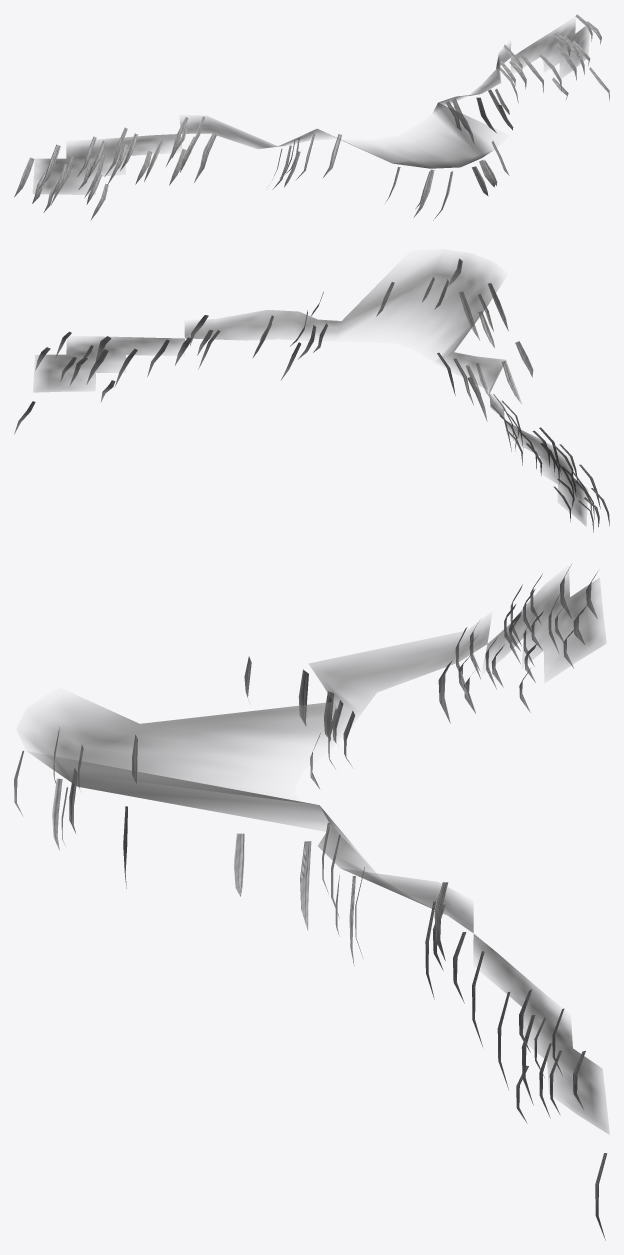
Rendered from unified_m_beard_moustache.glb.
3 views of the same model, one above another, from view 1: azimuth 30°, elevation 25°; view 2: azimuth 150°, elevation 25°; view 3: azimuth 270°, elevation 25° (orthographic). The views are drawn at different scales.
Visible parts, largest first — view 1: Hair_beard_roots, Hair_facial_strands; view 2: Hair_beard_roots, Hair_facial_strands; view 3: Hair_beard_roots, Hair_facial_strands.
Boxes of the visible parts, box(x1,y1,x2,y2) form: Hair_beard_roots: box(33, 21, 588, 194); Hair_facial_strands: box(14, 14, 609, 220); Hair_beard_roots: box(33, 255, 587, 525); Hair_facial_strands: box(14, 258, 609, 532); Hair_beard_roots: box(22, 574, 608, 1133); Hair_facial_strands: box(14, 564, 607, 1240).
Size of the model in its own units: 0.0504 by 0.011 by 0.024.
2 materials, 2 textured.
